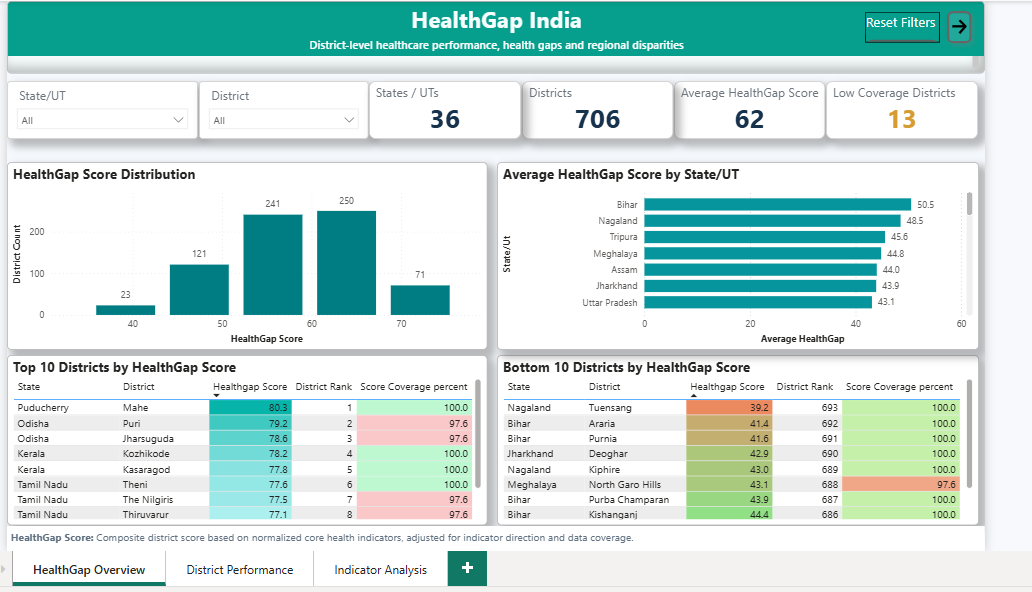

What the dashboard file says about the page in this screenshot:
{"tool":"powerbi","page":{"name":"HealthGap Overview","canvas":[1280,720],"ordinal":0},"visuals":[{"type":"textbox","title":"HealthGap India","box":[0,0,1280.2,95],"z":0},{"type":"slicer","fields":{"Values":["Geography.state_ut"]},"box":[0,105.4,250.3,75.6],"z":1000},{"type":"slicer","fields":{"Values":["Geography.district_names"]},"box":[251.7,105.4,222.4,76.1],"z":2000},{"type":"card","title":"Average HealthGap Score","fields":{"Values":["Measures (2).Average District Score"]},"box":[873.4,105.4,198.2,75.6],"z":3000},{"type":"card","title":"Districts","fields":{"Values":["Measures (2).District Count"]},"box":[674.2,105.4,198.2,75.6],"z":4000},{"type":"card","title":"States / UTs","fields":{"Values":["Measures (2).State UT Count"]},"box":[474.1,105.4,199,76.1],"z":5000},{"type":"card","title":"Low Coverage Districts","fields":{"Values":["Measures (2).Low Coverage Districts"]},"box":[1072.7,105.4,199,76.1],"z":6000},{"type":"clusteredColumnChart","title":"HealthGap Score Distribution","fields":{"Category":["District Scores.healthgap_score (bins)"],"Y":["CountNonNull(District Scores.district_names)"]},"box":[0,210.2,629.3,246.2],"z":7000},{"type":"tableEx","title":"Top 10 Districts by HealthGap Score","fields":{"Values":["District Scores.state_ut","District Scores.district_names","District Scores.healthgap_score","District Scores.district_rank","District Scores.score_coverage_pct"]},"box":[0,463.7,629.3,223.2],"z":8000},{"type":"tableEx","title":"Bottom 10 Districts by HealthGap Score","fields":{"Values":["District Scores.state_ut","District Scores.district_names","Sum(District Scores.healthgap_score)","Sum(District Scores.district_rank)","Sum(District Scores.score_coverage_pct)"]},"box":[640.8,463.7,630.7,223.2],"z":9000},{"type":"clusteredBarChart","title":"Average HealthGap Score by State/UT","fields":{"Category":["District Scores.state_ut"],"Y":["Measures (2).Average HealthGap Gap"]},"box":[640.8,210.2,630.7,246.2],"z":10000},{"type":"textbox","box":[0,687,1280,33.6],"z":11000},{"type":"actionButton","title":"Reset Filters","box":[1123.2,14.4,97.9,40.3],"z":12000},{"type":"actionButton","box":[1221.1,4.3,50.4,60.5],"z":13000}]}

Visuals, with their boxes on the page's 1280x720 design canvas (x1, y1, x2, y2). These are canvas units, not pixel positions in the 1032x592 screenshot, which may show the page scaled, cropped or inside an application window:
"HealthGap India" textbox: select_region(0, 0, 1280, 95)
slicer - Geography.state_ut: select_region(0, 105, 250, 181)
slicer - Geography.district_names: select_region(252, 105, 474, 182)
"Average HealthGap Score" card: select_region(873, 105, 1072, 181)
"Districts" card: select_region(674, 105, 872, 181)
"States / UTs" card: select_region(474, 105, 673, 182)
"Low Coverage Districts" card: select_region(1073, 105, 1272, 182)
"HealthGap Score Distribution" clusteredColumnChart: select_region(0, 210, 629, 456)
"Top 10 Districts by HealthGap Score" tableEx: select_region(0, 464, 629, 687)
"Bottom 10 Districts by HealthGap Score" tableEx: select_region(641, 464, 1272, 687)
"Average HealthGap Score by State/UT" clusteredBarChart: select_region(641, 210, 1272, 456)
textbox: select_region(0, 687, 1280, 721)
"Reset Filters" actionButton: select_region(1123, 14, 1221, 55)
actionButton: select_region(1221, 4, 1272, 65)
